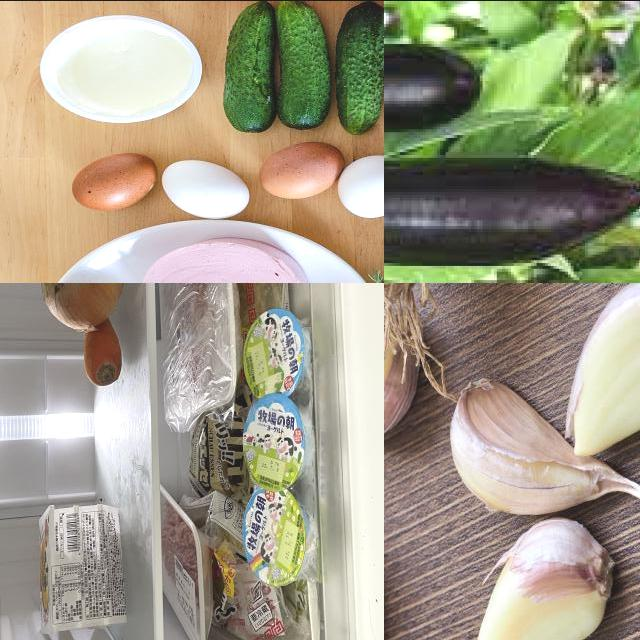carrot: (83, 304, 125, 390)
cucumber: (223, 2, 281, 134), (332, 4, 385, 137), (273, 1, 324, 135)
egg: (165, 156, 253, 222), (73, 155, 160, 211), (262, 142, 345, 199), (335, 155, 385, 218)
eggplant: (385, 158, 640, 266), (385, 47, 480, 141)
garlic: (442, 378, 603, 510), (467, 516, 617, 640), (571, 283, 640, 454), (385, 300, 422, 448)
onion: (39, 283, 120, 330)
